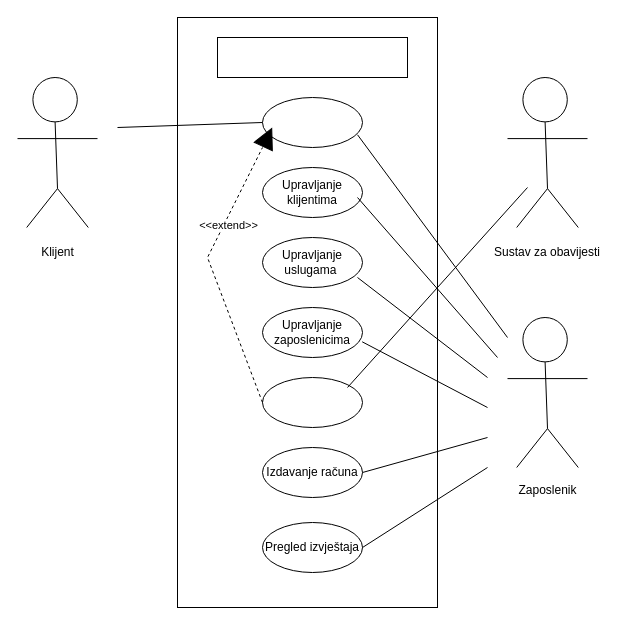
The diagram is 618 pixels wide and 625 high, and some of its shapes have lost their labels. Each missing label, with the box of its shape:
Rezerviranje termina: (262, 96, 362, 148)
Salon ljepote: (216, 36, 408, 78)
Slanje podsjetnika: (262, 376, 362, 428)
